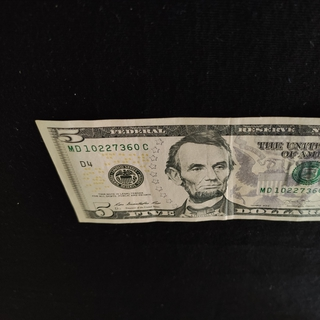5USDFront: (34, 115, 320, 223)
